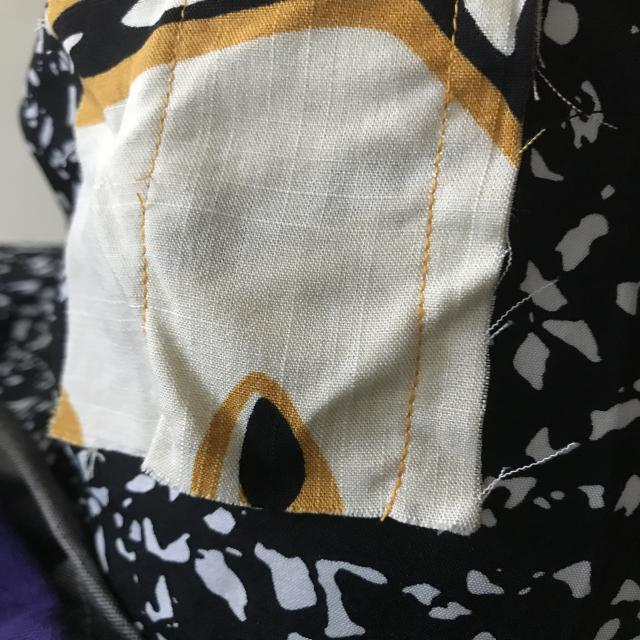broken: (128, 163, 166, 216)
